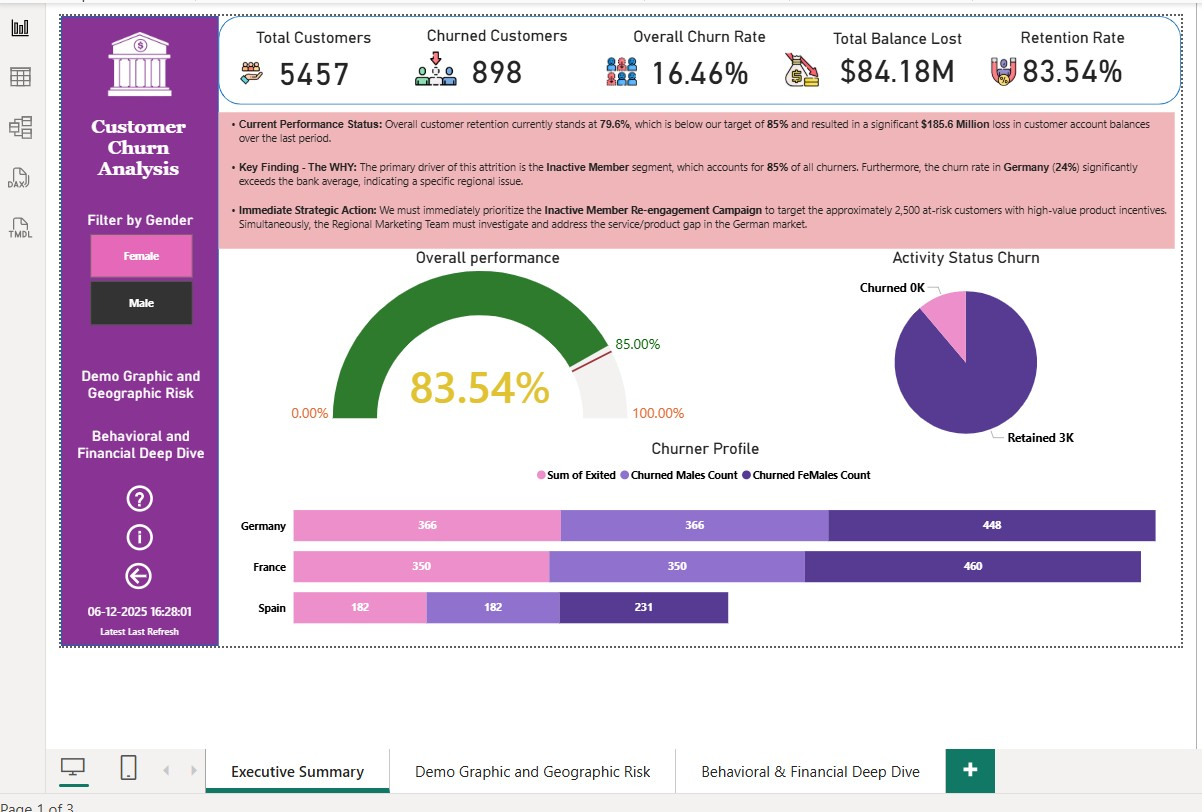

The page's visual inventory and layout, read from the dashboard file:
{"tool":"powerbi","page":{"name":"Executive Summary","canvas":[1280,720],"ordinal":0},"visuals":[{"type":"image","box":[0,531,94,88],"z":0},{"type":"shape","box":[0,0,180,720],"z":1000},{"type":"textbox","box":[0,110,177,83],"z":2000},{"type":"image","box":[0,0,180,110],"z":3000},{"type":"card","fields":{"Values":["Max(Query2.Last Refresh)"]},"box":[0,665,180,51],"z":4000},{"type":"shape","box":[180,0,1100,101.2],"z":5000},{"type":"card","title":"Total Customers","fields":{"Values":["Churn_Modelling.Total Customers"]},"box":[200.5,14.7,177.3,79.5],"z":6000},{"type":"card","title":"Churned Customers","fields":{"Values":["Churn_Modelling.Total churned customers"]},"box":[399.9,11,196.9,80.7],"z":7000},{"type":"card","title":"Overall Churn Rate","fields":{"Values":["Churn_Modelling.Churn Rate"]},"box":[618.8,13.5,222.6,79.5],"z":8000},{"type":"card","title":"Retention Rate","fields":{"Values":["Churn_Modelling.Retantion Rate"]},"box":[1039.4,14.7,232.3,70.9],"z":9000},{"type":"gauge","title":"Overall performance","fields":{"Y":["Churn_Modelling.Retantion Rate"]},"box":[200,265.7,575.7,204.3],"z":10000},{"type":"card","title":"Total Balance Lost","fields":{"Values":["Churn_Modelling.Total Balance Lost"]},"box":[847.4,15.9,217.7,68.5],"z":11000},{"type":"barChart","title":"Churner Profile","fields":{"Y":["Sum(Churn_Modelling.Exited)","Churn_Modelling.Churned Males Count","Churn_Modelling.Churned FeMales Count"],"Category":["Churn_Modelling.Geography"]},"box":[200,484.3,1072.9,235.7],"z":12000},{"type":"pieChart","title":"Activity Status Churn","fields":{"Y":["Sum(Churn_Modelling.IsActiveMember)"],"Category":["Churn_Modelling.Churn Status"]},"box":[788.6,265.7,491.4,240],"z":13000},{"type":"textbox","box":[180,110,1092.9,155.7],"z":14000},{"type":"image","box":[1054.3,42.9,45.7,41.4],"z":15000},{"type":"image","box":[400,30,57.1,60],"z":16000},{"type":"image","box":[822.9,35.7,48.6,51.4],"z":17000},{"type":"image","box":[615.7,41.4,50,44.3],"z":18000},{"type":"image","box":[200,42.9,35.7,44.3],"z":19000},{"type":"actionButton","title":"Demo Graphic and Geographic Risk","box":[2.9,401.4,177.1,40],"z":20000},{"type":"actionButton","title":"Behavioral and Financial Deep Dive","box":[2.9,470,177.1,40],"z":21000},{"type":"actionButton","box":[68.6,620,41.4,40],"z":22000},{"type":"actionButton","box":[70,575.7,41.4,40],"z":23000},{"type":"actionButton","box":[70,531.4,41.4,40],"z":24000},{"type":"slicer","title":"Filter by Gender","fields":{"Values":["Churn_Modelling.Gender"]},"box":[7.1,222.9,167.1,137.1],"z":24001}]}

Visuals, with their boxes on the page's 1280x720 design canvas (x1, y1, x2, y2). These are canvas units, not pixel positions in the 1202x812 screenshot, which may show the page scaled, cropped or inside an application window:
image: BBox(0, 531, 94, 619)
shape: BBox(0, 0, 180, 720)
textbox: BBox(0, 110, 177, 193)
image: BBox(0, 0, 180, 110)
card - Max(Query2.Last Refresh): BBox(0, 665, 180, 716)
shape: BBox(180, 0, 1280, 101)
"Total Customers" card: BBox(200, 15, 378, 94)
"Churned Customers" card: BBox(400, 11, 597, 92)
"Overall Churn Rate" card: BBox(619, 14, 841, 93)
"Retention Rate" card: BBox(1039, 15, 1272, 86)
"Overall performance" gauge: BBox(200, 266, 776, 470)
"Total Balance Lost" card: BBox(847, 16, 1065, 84)
"Churner Profile" barChart: BBox(200, 484, 1273, 720)
"Activity Status Churn" pieChart: BBox(789, 266, 1280, 506)
textbox: BBox(180, 110, 1273, 266)
image: BBox(1054, 43, 1100, 84)
image: BBox(400, 30, 457, 90)
image: BBox(823, 36, 872, 87)
image: BBox(616, 41, 666, 86)
image: BBox(200, 43, 236, 87)
"Demo Graphic and Geographic Risk" actionButton: BBox(3, 401, 180, 441)
"Behavioral and Financial Deep Dive" actionButton: BBox(3, 470, 180, 510)
actionButton: BBox(69, 620, 110, 660)
actionButton: BBox(70, 576, 111, 616)
actionButton: BBox(70, 531, 111, 571)
"Filter by Gender" slicer: BBox(7, 223, 174, 360)
